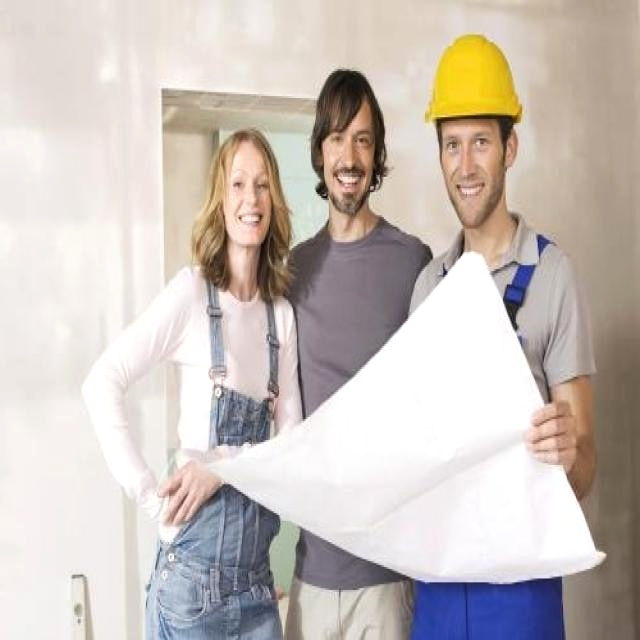Con_Casco: (434, 37, 521, 217)
Sin_Casco_Mascarrilla: (205, 131, 284, 275), (316, 67, 392, 209)
